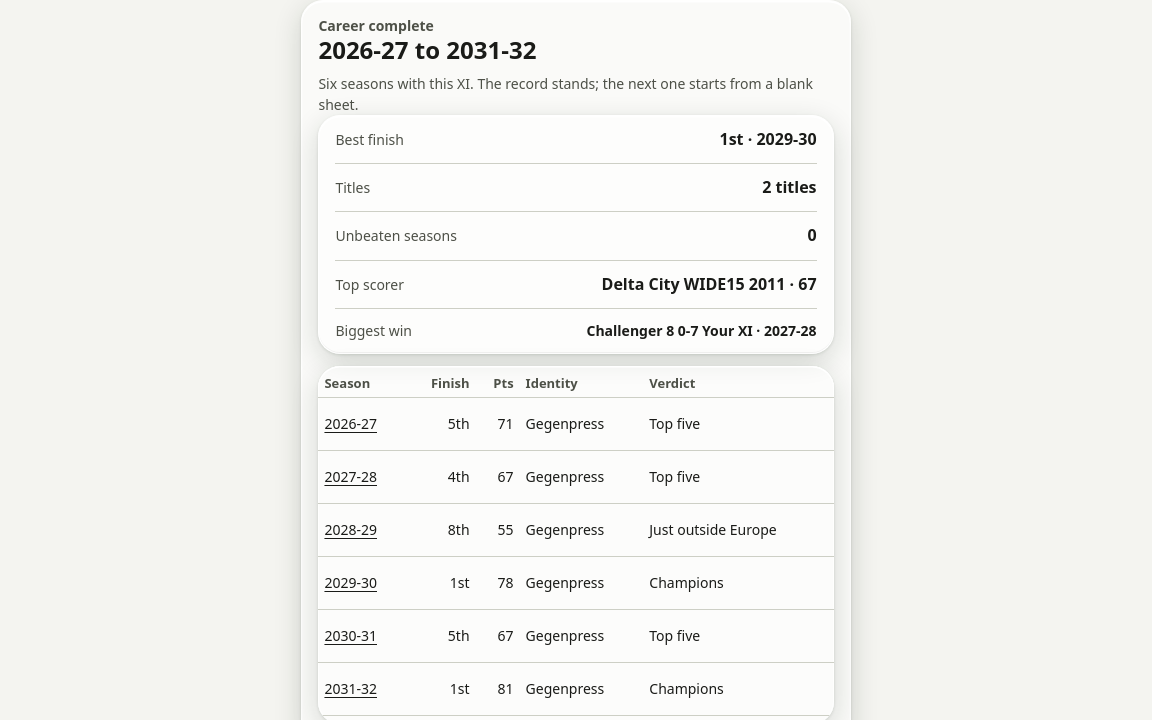
Test case: the record's season sheets › opens a season with its form, top scorers and match reports, and says so when a season has no log
The width and height of the screenshot is (1152, 720).
Expected: the text "Biggest win" is shown, [335, 321, 412, 341]
Click the button "2026-27" at (351, 424), box [324, 402, 377, 446]
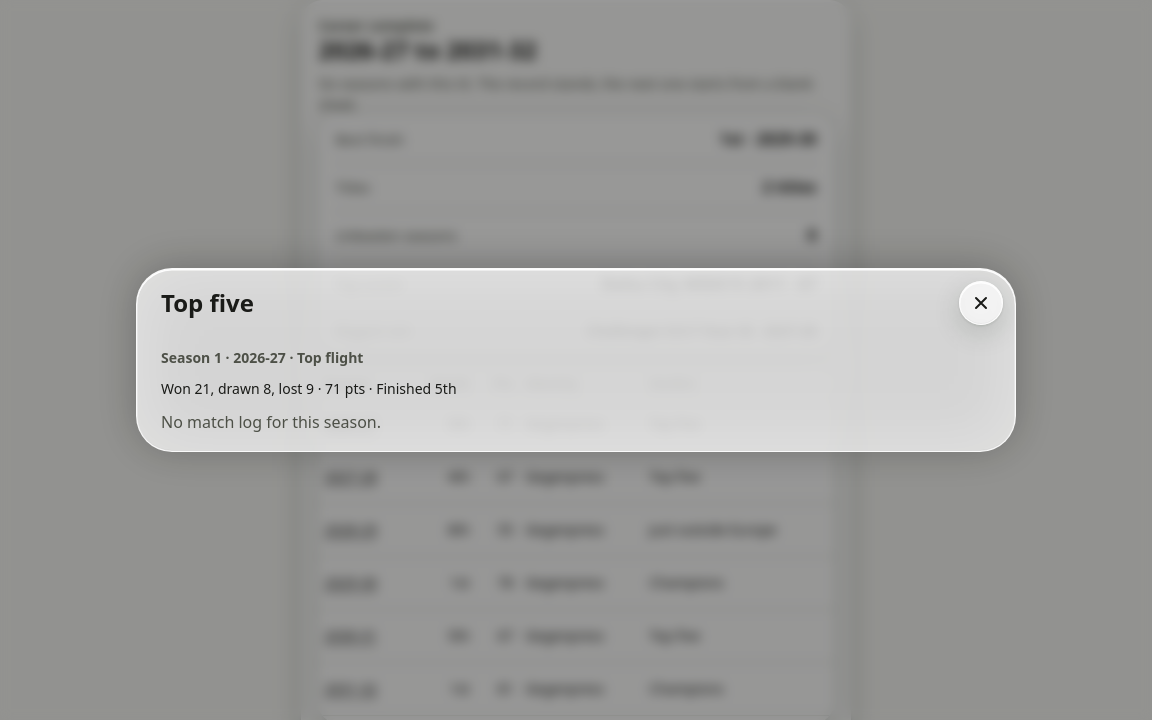
Expected: the text "No match log for this season." is shown, [161, 412, 381, 434]
Click the button named "Close" at (981, 303), box [959, 281, 1003, 325]
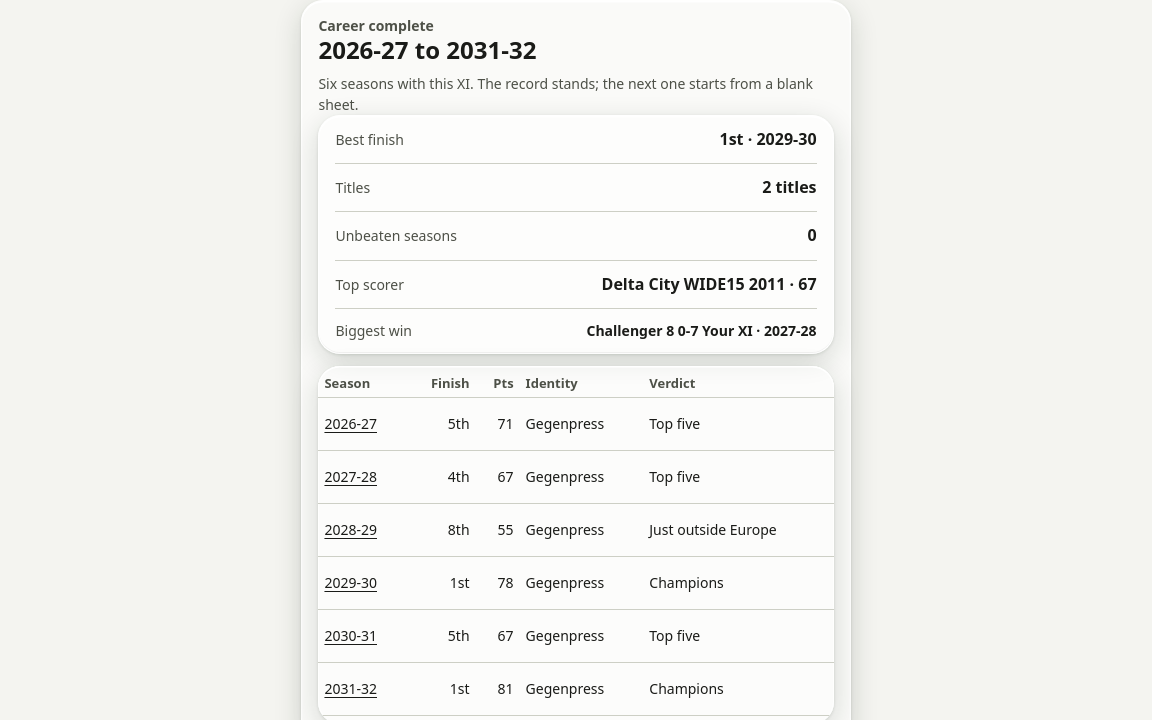
Click the button "2028-29" at (351, 530), box [324, 508, 377, 552]
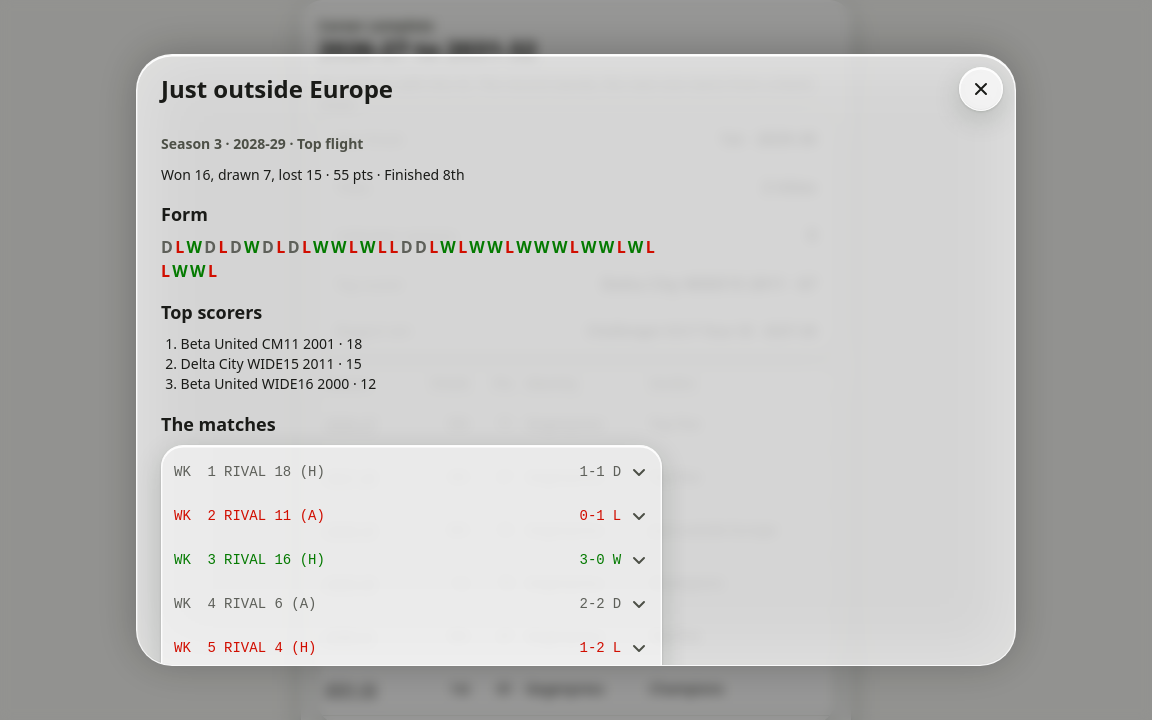
Expected: the text "Season 3 · 2028-29 · Top flight" is shown, [161, 134, 363, 153]
Click the button "WK 5 Rival 4 (H) 1-2 L" at (253, 648), box [174, 626, 649, 670]
(page scrolled)
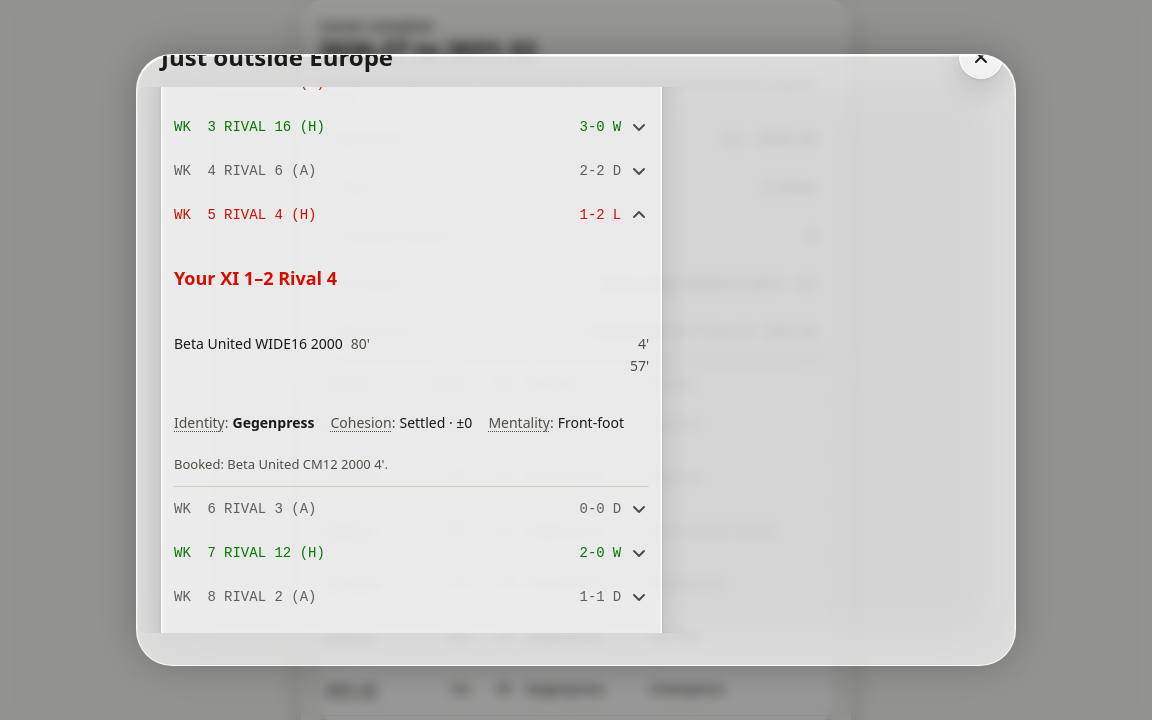
Expected: the element that starts with "Your XI" is shown, [174, 245, 649, 474]
